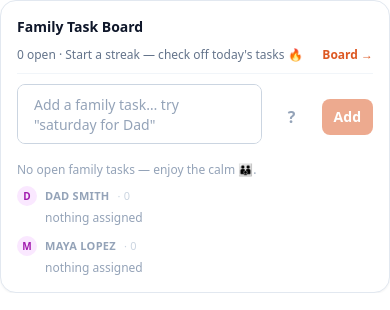
it: FamilyTaskBoardCard - quick-add scoping (issue 021) › shows the quick-add help panel next to the input
Click the button named "Quick-add shortcuts help": (292, 117) [270,95,314,139]
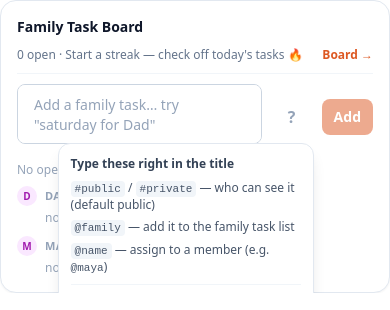
Now the text "Type these right in the title" is shown, box [71,155,234,172]
